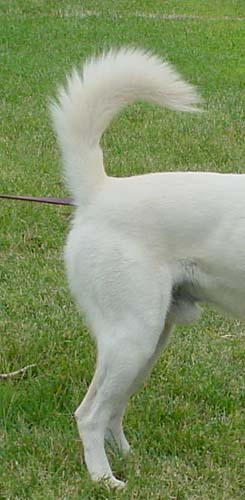tail: (34, 43, 200, 190)
